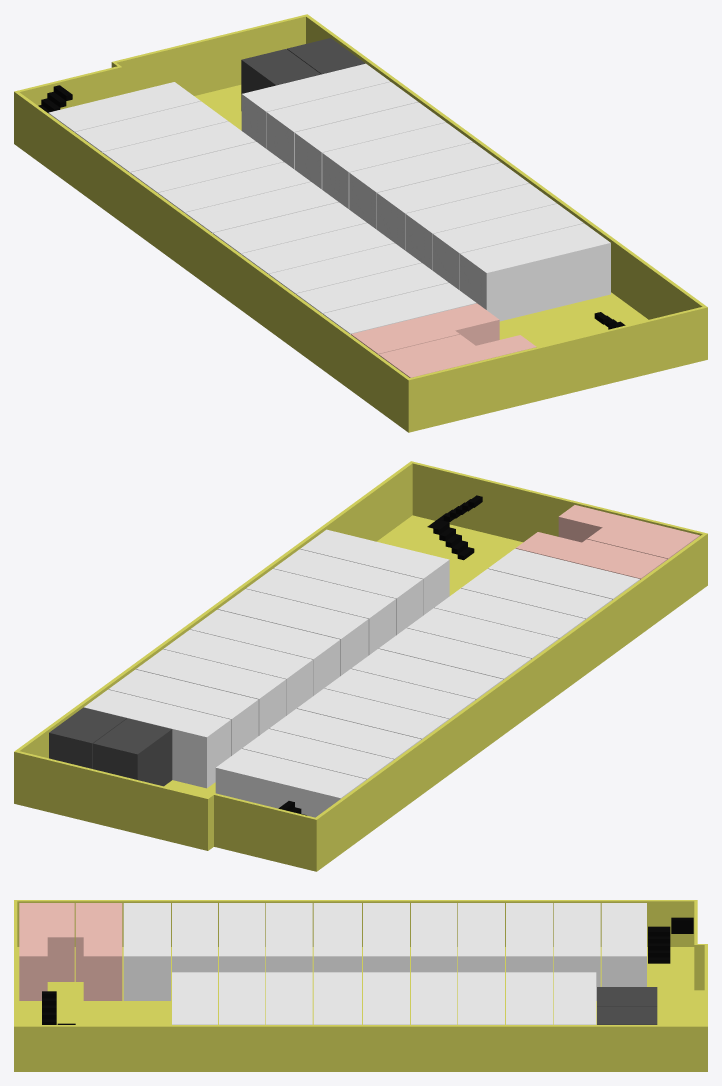
3 renders of one model, top to bottom at view 1: azimuth 30°, elevation 25°; view 2: azimuth 150°, elevation 25°; view 3: azimuth 270°, elevation 25°, orthographic. The views are drawn at different scales.
Parts seen in each view (by area): view 1: object, 3520研究室, 3517研究室, 3513研究室, 3514研究室, 3516研究室, 3518研究室, 3515研究室, 3519研究室, 3512研究室, 男子トイレ_3_5, エレベーター_3_5_2 (+12 smaller); view 2: object, エレベーター_3_5_2, 3511研究室, 3512研究室, 3517研究室, 3514研究室, 3513研究室, 3516研究室, 3518研究室, 3520研究室, 3515研究室, 3519研究室 (+13 smaller); view 3: object, 女子トイレ_3_5, 3501研究室, 男子トイレ_3_5, 3511研究室, 3505研究室, 3510研究室, 3504研究室, 3508研究室, 3509研究室, 3506研究室, 3502研究室 (+14 smaller).
Boxes of the visible parts, bbox=[...] form: object: bbox=[14, 14, 707, 432]; 3520研究室: bbox=[460, 223, 610, 321]; 3517研究室: bbox=[377, 162, 529, 250]; 3513研究室: bbox=[266, 82, 417, 169]; 3514研究室: bbox=[294, 102, 445, 189]; 3516研究室: bbox=[349, 142, 500, 229]; 3518研究室: bbox=[405, 183, 556, 270]; 3515研究室: bbox=[322, 122, 472, 209]; 3519研究室: bbox=[433, 203, 583, 290]; 3512研究室: bbox=[241, 63, 390, 148]; 男子トイレ_3_5: bbox=[351, 303, 499, 354]; エレベーター_3_5_2: bbox=[241, 38, 365, 110]; object: bbox=[14, 461, 707, 871]; エレベーター_3_5_2: bbox=[49, 707, 172, 786]; 3511研究室: bbox=[215, 748, 366, 817]; 3512研究室: bbox=[84, 689, 230, 788]; 3517研究室: bbox=[218, 589, 368, 675]; 3514研究室: bbox=[136, 649, 286, 735]; 3513研究室: bbox=[108, 669, 258, 755]; 3516研究室: bbox=[190, 609, 340, 695]; 3518研究室: bbox=[246, 569, 395, 655]; 3520研究室: bbox=[300, 529, 449, 615]; 3515研究室: bbox=[163, 629, 312, 715]; 3519研究室: bbox=[273, 549, 422, 635]; object: bbox=[14, 900, 707, 1071]; 女子トイレ_3_5: bbox=[19, 903, 74, 1000]; 3501研究室: bbox=[123, 903, 170, 1000]; 男子トイレ_3_5: bbox=[75, 903, 122, 1000]; 3511研究室: bbox=[601, 903, 646, 986]; 3505研究室: bbox=[313, 903, 361, 972]; 3510研究室: bbox=[554, 903, 600, 1000]; 3504研究室: bbox=[265, 903, 312, 972]; 3508研究室: bbox=[457, 903, 504, 972]; 3509研究室: bbox=[506, 903, 553, 972]; 3506研究室: bbox=[363, 903, 409, 972]; 3502研究室: bbox=[172, 903, 217, 972].
Bounding box in the file's own units: 1.07 × 0.1853 × 2.49.
